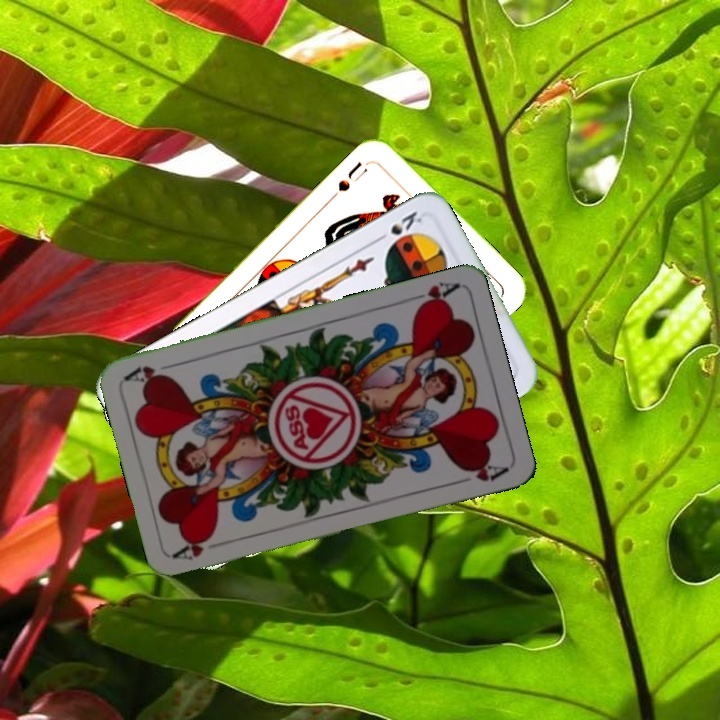HA: (403, 278, 461, 313), (170, 531, 228, 563)
SK: (371, 207, 425, 245)
SU: (327, 156, 375, 201)
